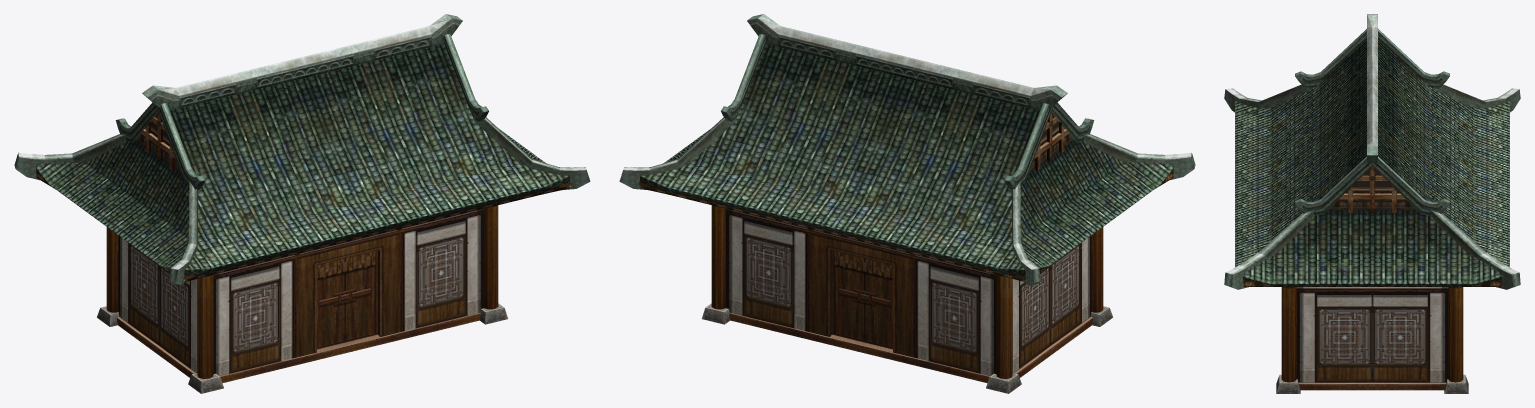
The model's file is c1-016-house9.glb.
3 renders of one model, left to right at view 1: azimuth 30°, elevation 25°; view 2: azimuth 150°, elevation 25°; view 3: azimuth 270°, elevation 25°, orthographic. The views are drawn at different scales.
Parts seen in each view (by area): view 1: b1-016-house9; view 2: b1-016-house9; view 3: b1-016-house9.
Boxes of the visible parts, x1,y1,x2,y2 form: b1-016-house9: [14, 14, 590, 393]; b1-016-house9: [619, 14, 1195, 393]; b1-016-house9: [1224, 14, 1520, 393].
Size of the model in its own units: 11.71 by 7.08 by 7.76.
Materials: 1 (1 with a texture image).
